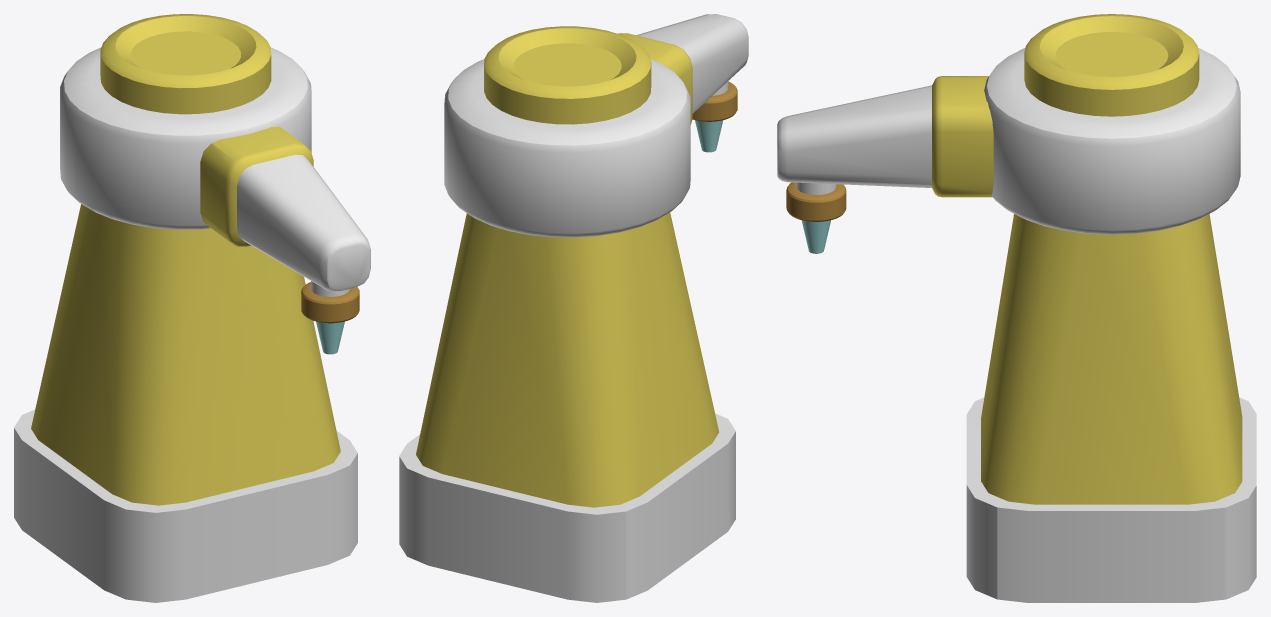
The model's file is mayB.fbx.
3 renders of one model, left to right at view 1: azimuth 30°, elevation 25°; view 2: azimuth 150°, elevation 25°; view 3: azimuth 270°, elevation 25°, orthographic. The views are drawn at different scales.
Parts seen in each view (by area): view 1: Cylinder.003; view 2: Cylinder.003; view 3: Cylinder.003.
Part boxes in pixels (bbox=[...]): Cylinder.003: bbox=[14, 14, 370, 602]; Cylinder.003: bbox=[399, 14, 748, 602]; Cylinder.003: bbox=[777, 14, 1256, 602].
Bounding box in the file's own units: 168 × 317 × 278.
